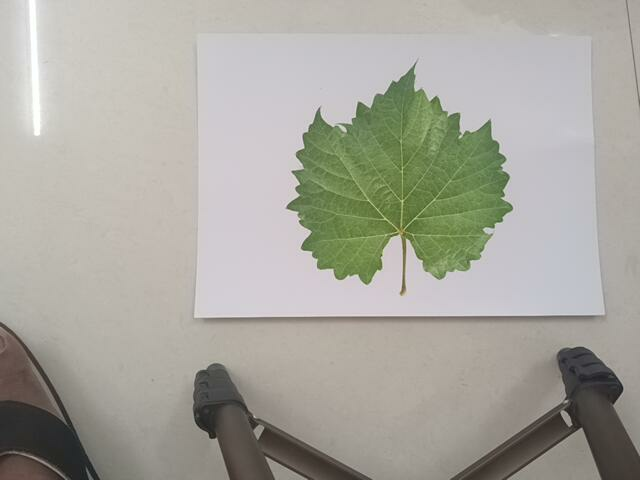Grape_Healthy: (285, 59, 540, 296)
